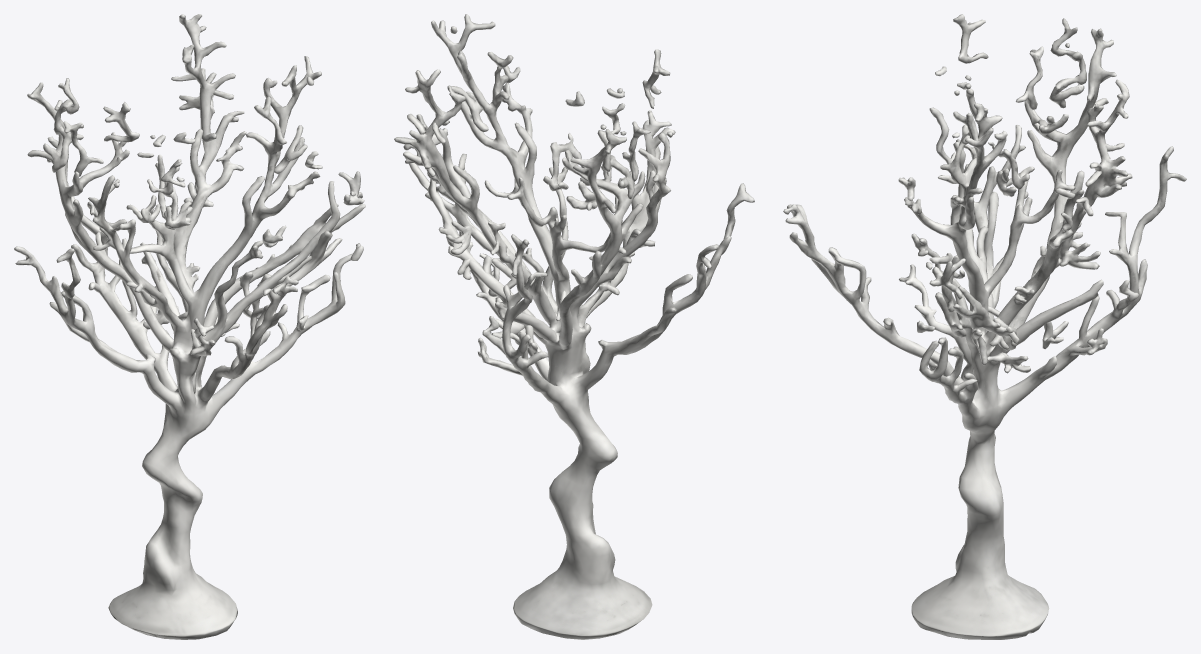
The model's file is white_tree_table_cent_0701034528_texture.glb.
3 views of the same model, side by side, from view 1: azimuth 30°, elevation 25°; view 2: azimuth 150°, elevation 25°; view 3: azimuth 270°, elevation 25° (orthographic). The views are drawn at different scales.
Visible parts, largest first — view 1: Mesh_0.005; view 2: Mesh_0.005; view 3: Mesh_0.005.
Part boxes in pixels (x1=…): Mesh_0.005: x1=14, y1=14, x2=365, y2=639; Mesh_0.005: x1=394, y1=14, x2=754, y2=639; Mesh_0.005: x1=783, y1=14, x2=1186, y2=639.
Size of the model in its own units: 0.3818 by 0.6096 by 0.3893.
Materials: 1 (1 with a texture image).
